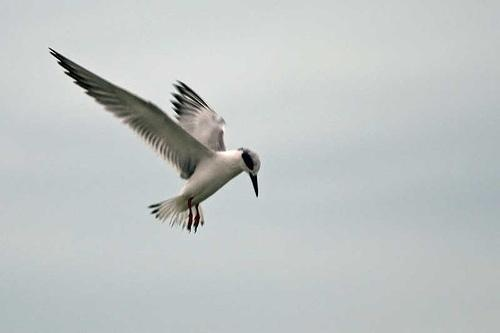bird: (44, 45, 265, 233)
